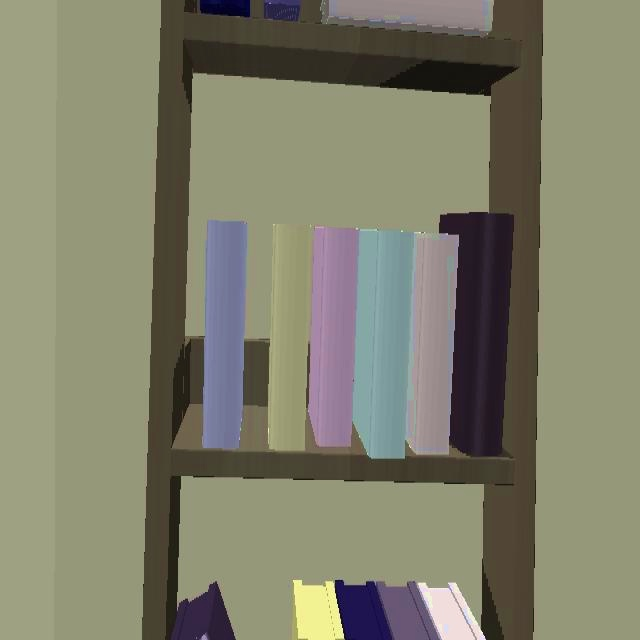book: (441, 212, 514, 456), (352, 230, 414, 458), (405, 233, 459, 455), (309, 227, 359, 446), (202, 220, 246, 449), (268, 225, 312, 450), (418, 582, 484, 639), (376, 582, 438, 640), (335, 580, 391, 640), (291, 580, 344, 639)
shelf: (142, 0, 542, 638)
